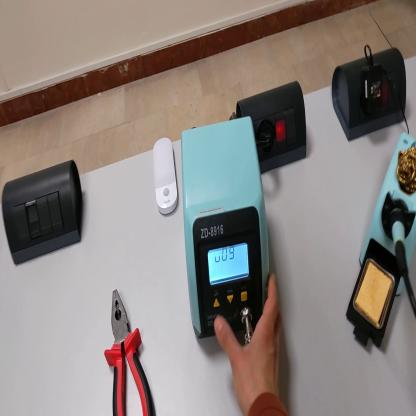hand: (215, 273, 283, 405)
pliers: (102, 292, 156, 415)
socket: (333, 46, 410, 141), (251, 75, 311, 172)
welder base: (346, 136, 415, 366)
welder probe tip: (392, 201, 408, 274)
welder station: (181, 117, 270, 339)
